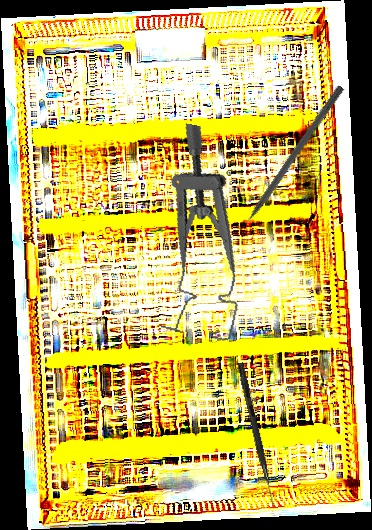Hook Surgical: (235, 362, 279, 508)
Pusher: (231, 83, 345, 241)
Speculum: (139, 122, 275, 344)
